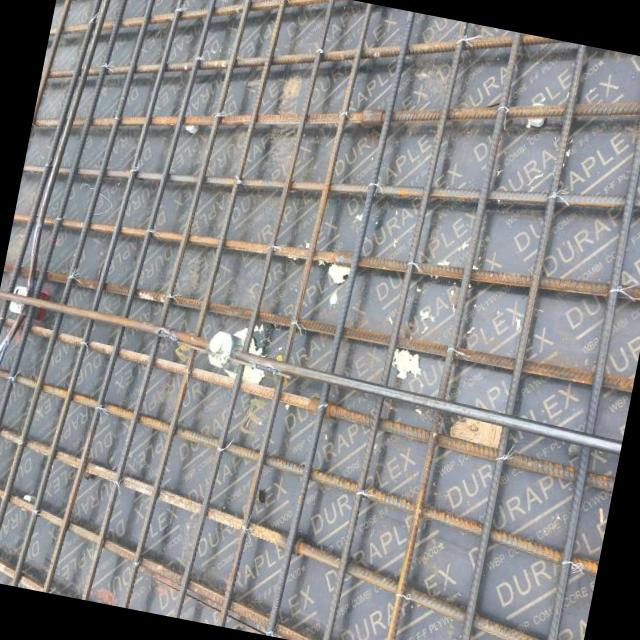ribbed bar: (33, 0, 640, 250), (22, 74, 640, 298), (0, 415, 603, 640), (0, 367, 610, 577), (0, 314, 621, 496), (14, 165, 640, 344), (40, 0, 225, 601), (79, 0, 258, 610), (10, 0, 193, 594), (118, 0, 291, 616), (168, 0, 337, 625), (0, 289, 627, 457), (215, 0, 375, 633), (0, 0, 166, 588), (264, 7, 415, 635), (47, 0, 565, 177), (321, 18, 468, 640), (379, 29, 524, 640), (4, 256, 633, 396), (0, 0, 141, 587), (454, 43, 590, 640), (527, 58, 640, 640), (0, 468, 342, 640), (0, 0, 113, 392), (49, 0, 327, 87), (29, 0, 88, 143), (0, 530, 64, 593), (57, 0, 185, 19)
